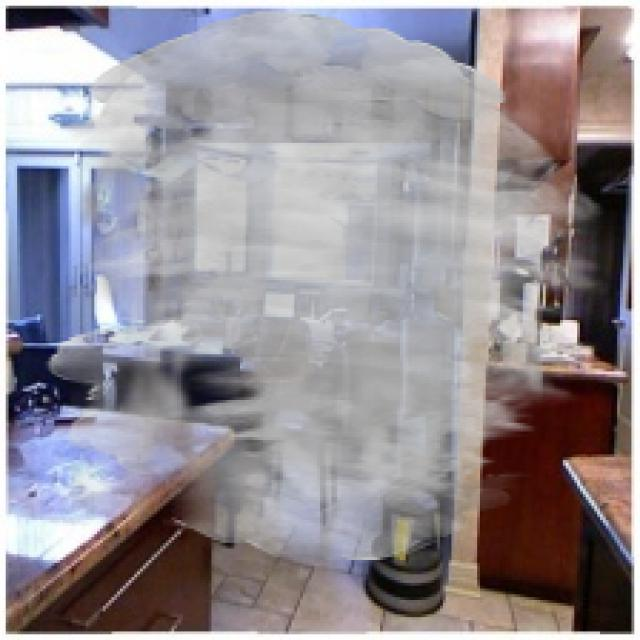smoke: (46, 11, 608, 563)
